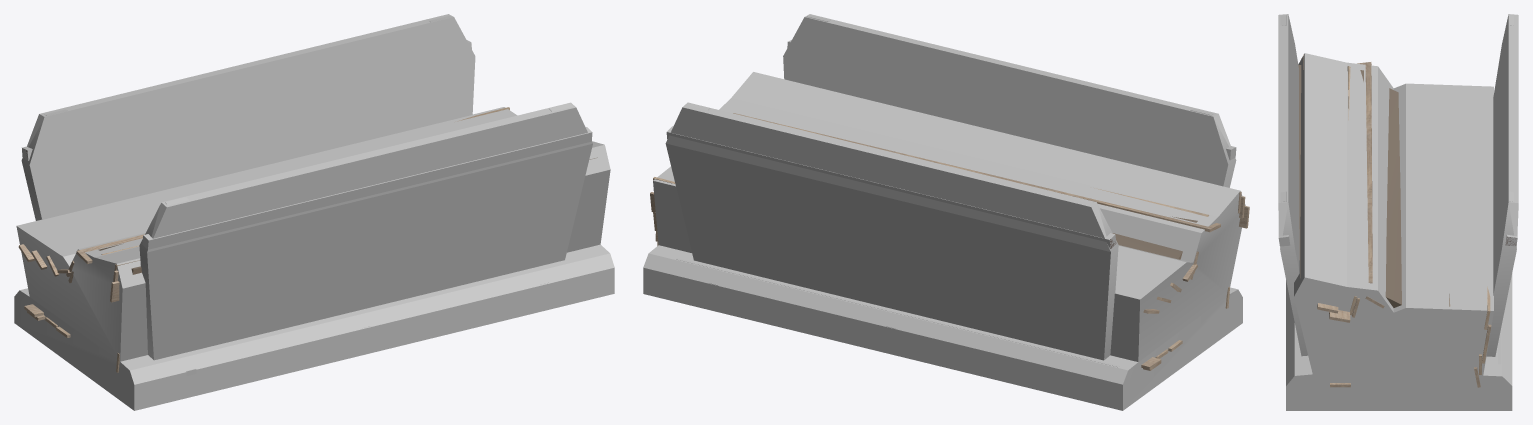
Rendered from ind_wood_stack.DAE.
3 renders of one model, left to right at view 1: azimuth 30°, elevation 25°; view 2: azimuth 150°, elevation 25°; view 3: azimuth 270°, elevation 25°, orthographic. The views are drawn at different scales.
Visible parts, largest first — view 1: Colmesh-1, ind_wood_stack_d350; view 2: Colmesh-1, ind_wood_stack_d350, ind_wood_stack_d60; view 3: Colmesh-1, ind_wood_stack_d60, ind_wood_stack_d350.
Boxes of the visible parts, x1,y1,x2,y2 form: Colmesh-1: (14,14,614,410); ind_wood_stack_d350: (18,16,592,375); Colmesh-1: (643,14,1245,410); ind_wood_stack_d350: (650,15,1249,370); ind_wood_stack_d60: (1110,216,1197,259); Colmesh-1: (1278,14,1518,410); ind_wood_stack_d60: (1298,65,1515,307); ind_wood_stack_d350: (1278,15,1517,387).
Size of the model in its own units: 321 by 139 by 120.
